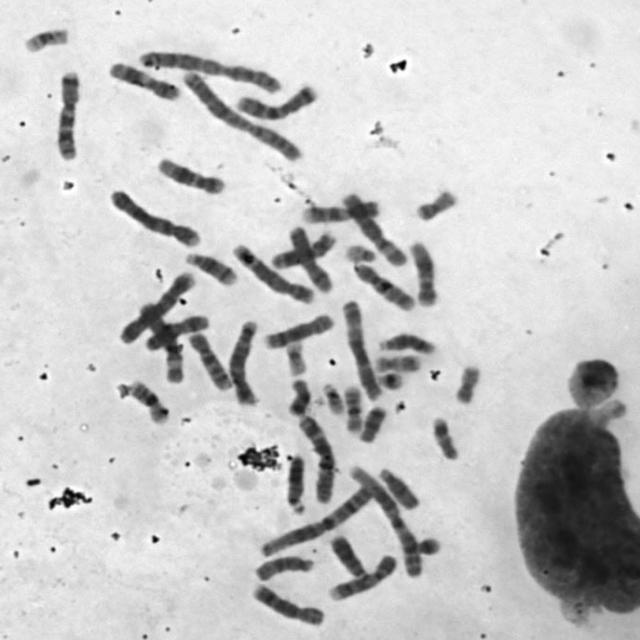A1: (342, 461, 426, 579), (255, 480, 376, 558)
A2: (177, 64, 306, 164), (132, 44, 284, 95)
A3: (337, 295, 384, 401), (294, 412, 338, 504)
B4: (114, 266, 198, 345), (104, 184, 204, 250)
B5: (227, 237, 317, 306), (225, 316, 262, 407)
C10: (349, 257, 418, 313), (183, 328, 234, 392)
C11: (102, 56, 182, 103), (268, 227, 339, 271)
C12: (152, 152, 228, 196), (404, 236, 441, 308)
C6: (336, 186, 409, 268), (132, 298, 186, 385)
C7: (232, 79, 320, 121), (50, 64, 84, 164)
C8: (246, 578, 328, 628), (260, 309, 337, 351)
C9: (325, 549, 401, 603), (298, 194, 384, 224)
D13: (325, 531, 370, 579), (282, 450, 310, 516)
D14: (181, 248, 240, 288), (374, 328, 438, 356)
D15: (374, 462, 422, 511), (248, 551, 316, 583)
E16: (120, 375, 172, 426), (340, 381, 366, 434)
E17: (428, 412, 462, 462), (372, 351, 424, 373)
E18: (355, 400, 389, 444), (283, 375, 313, 417)
F19: (19, 22, 72, 54), (282, 338, 310, 377)
F20: (411, 185, 461, 222), (450, 359, 483, 406)
G21: (409, 531, 443, 557), (373, 366, 407, 392)
G22: (316, 378, 346, 417), (341, 239, 379, 263)
X: (286, 220, 337, 294), (140, 310, 212, 353)
